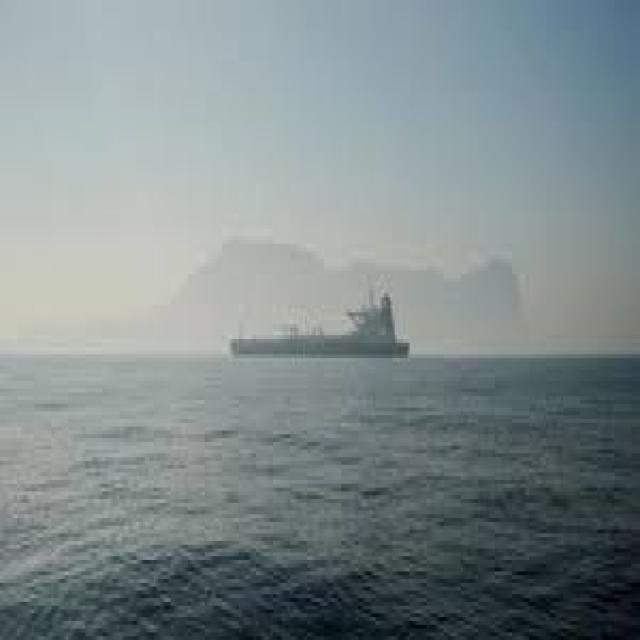cargoship: (228, 284, 412, 361)
